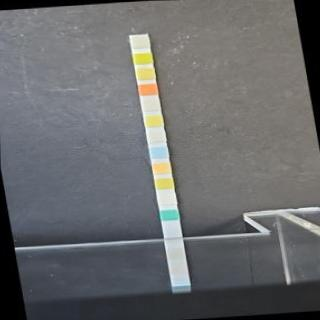mark: (132, 52, 152, 66), (140, 98, 160, 112), (158, 208, 180, 220), (135, 68, 156, 80), (153, 178, 174, 190), (130, 37, 150, 49), (138, 83, 158, 95), (144, 115, 164, 127), (149, 146, 169, 158), (152, 162, 172, 174), (156, 193, 176, 205), (146, 132, 166, 142)
